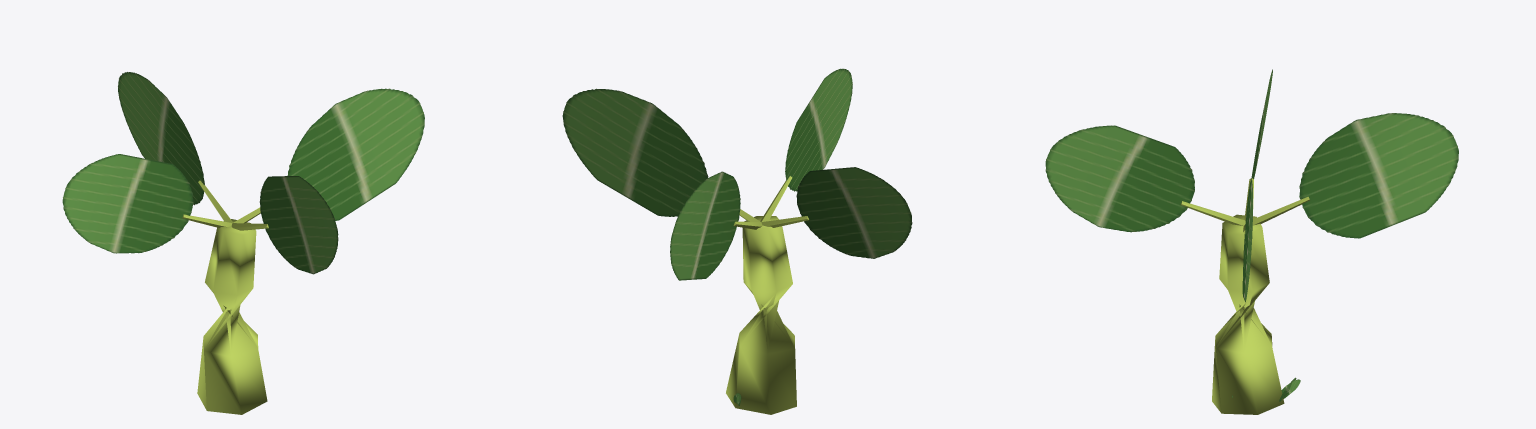
Rendered from bush-vn-banana.glb.
The picture shows the model from 3 angles, left to right: view 1: azimuth 30°, elevation 25°; view 2: azimuth 150°, elevation 25°; view 3: azimuth 270°, elevation 25°; orthographic projection. The views are drawn at different scales.
Visible parts, largest first — view 1: bush-vn-banana; view 2: bush-vn-banana; view 3: bush-vn-banana.
Part boxes in pixels (box(x1,y1,x2,y2)): bush-vn-banana: box(62, 72, 424, 414); bush-vn-banana: box(562, 68, 912, 414); bush-vn-banana: box(1045, 69, 1458, 414).
Size of the model in its own units: 1.83 by 1.2 by 1.8.
2 materials, 1 textured.
